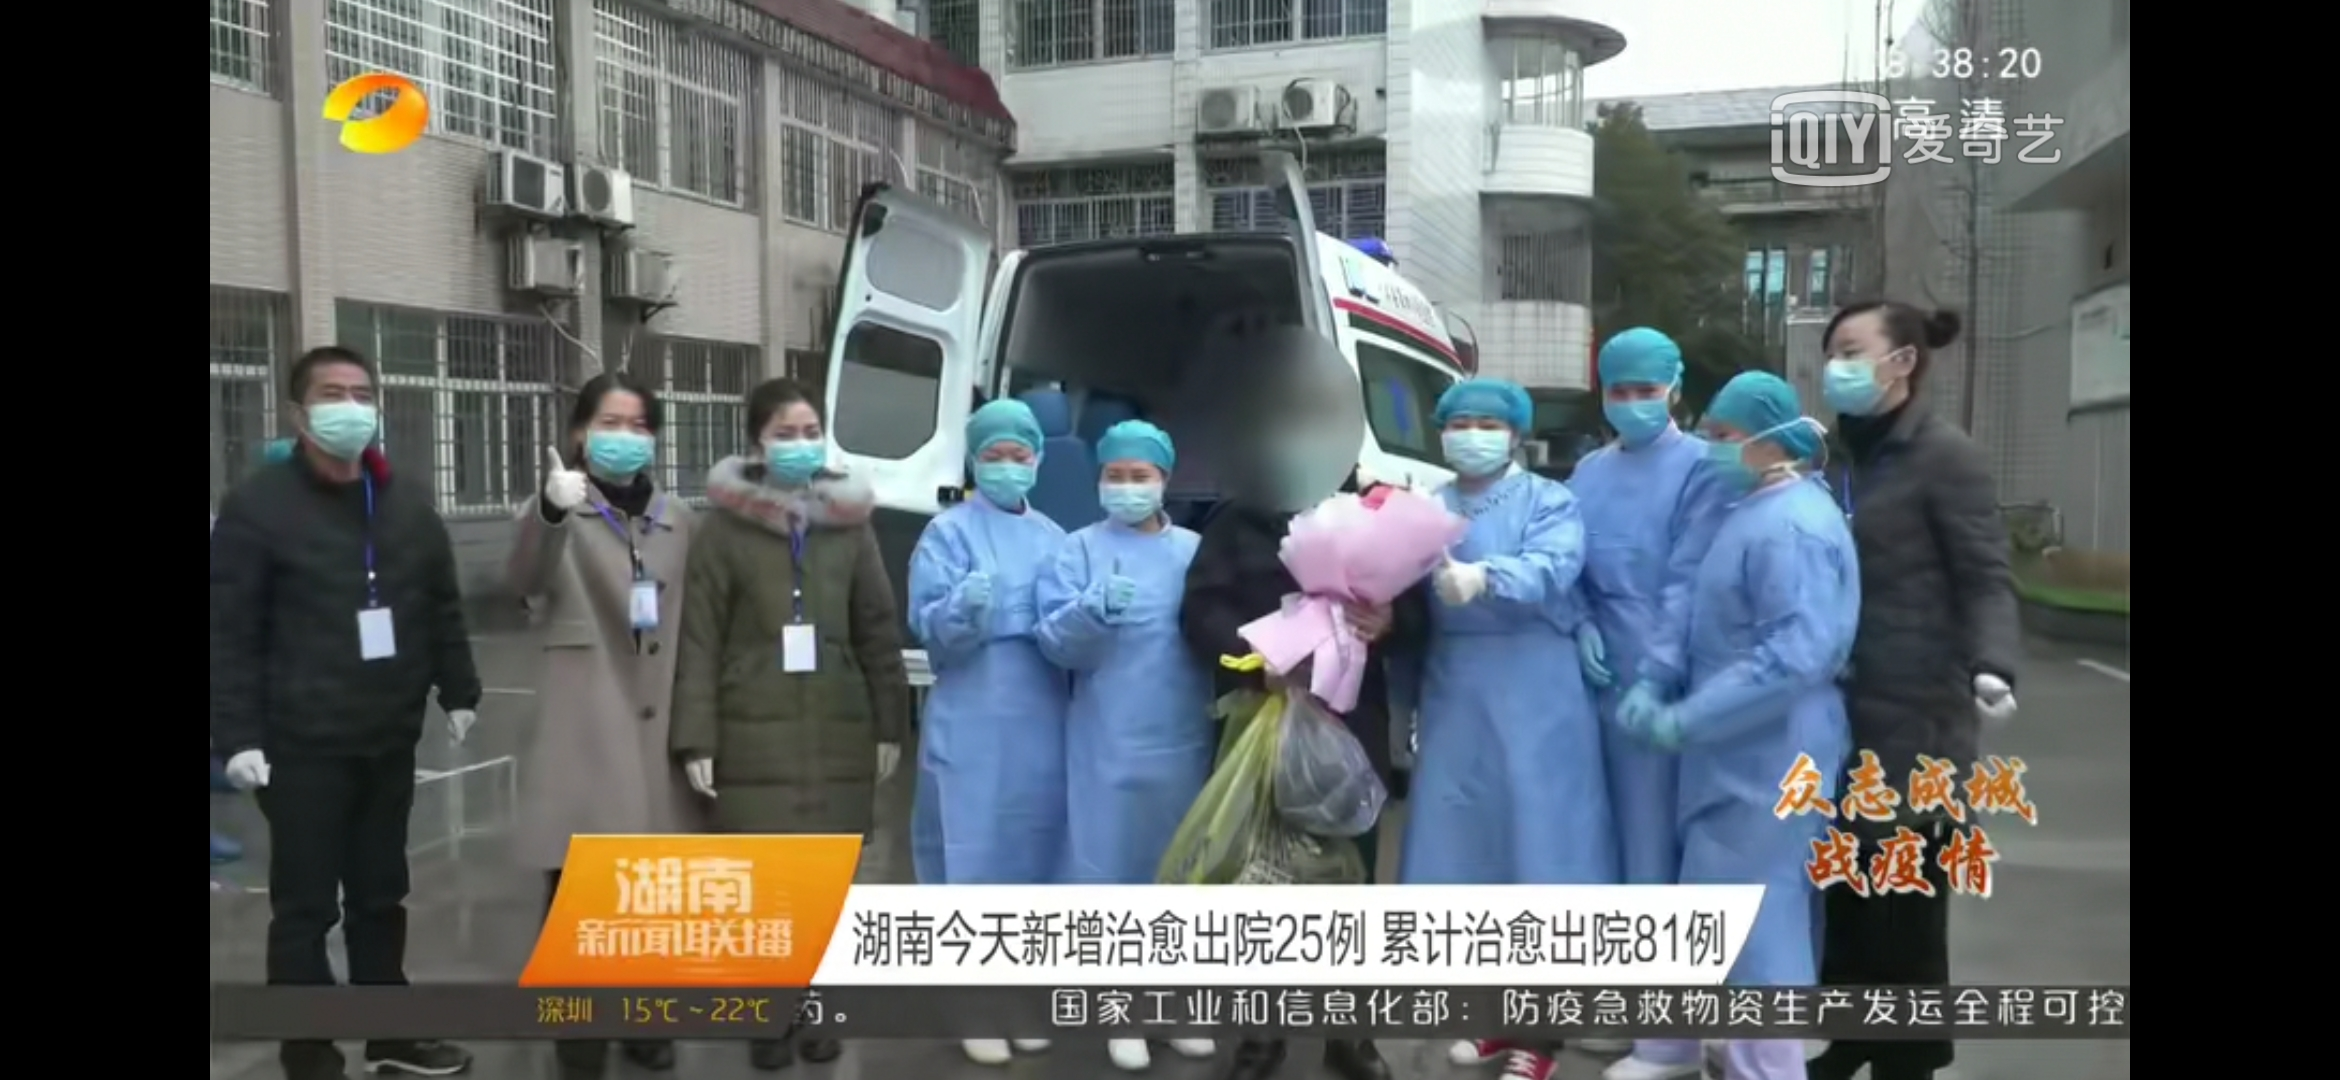correctlyWear: (1821, 324, 1921, 416), (298, 370, 387, 453), (1598, 362, 1686, 445), (1701, 412, 1780, 498), (1439, 397, 1521, 479), (578, 403, 667, 474), (1094, 448, 1171, 524), (969, 430, 1048, 504), (754, 410, 833, 483)
